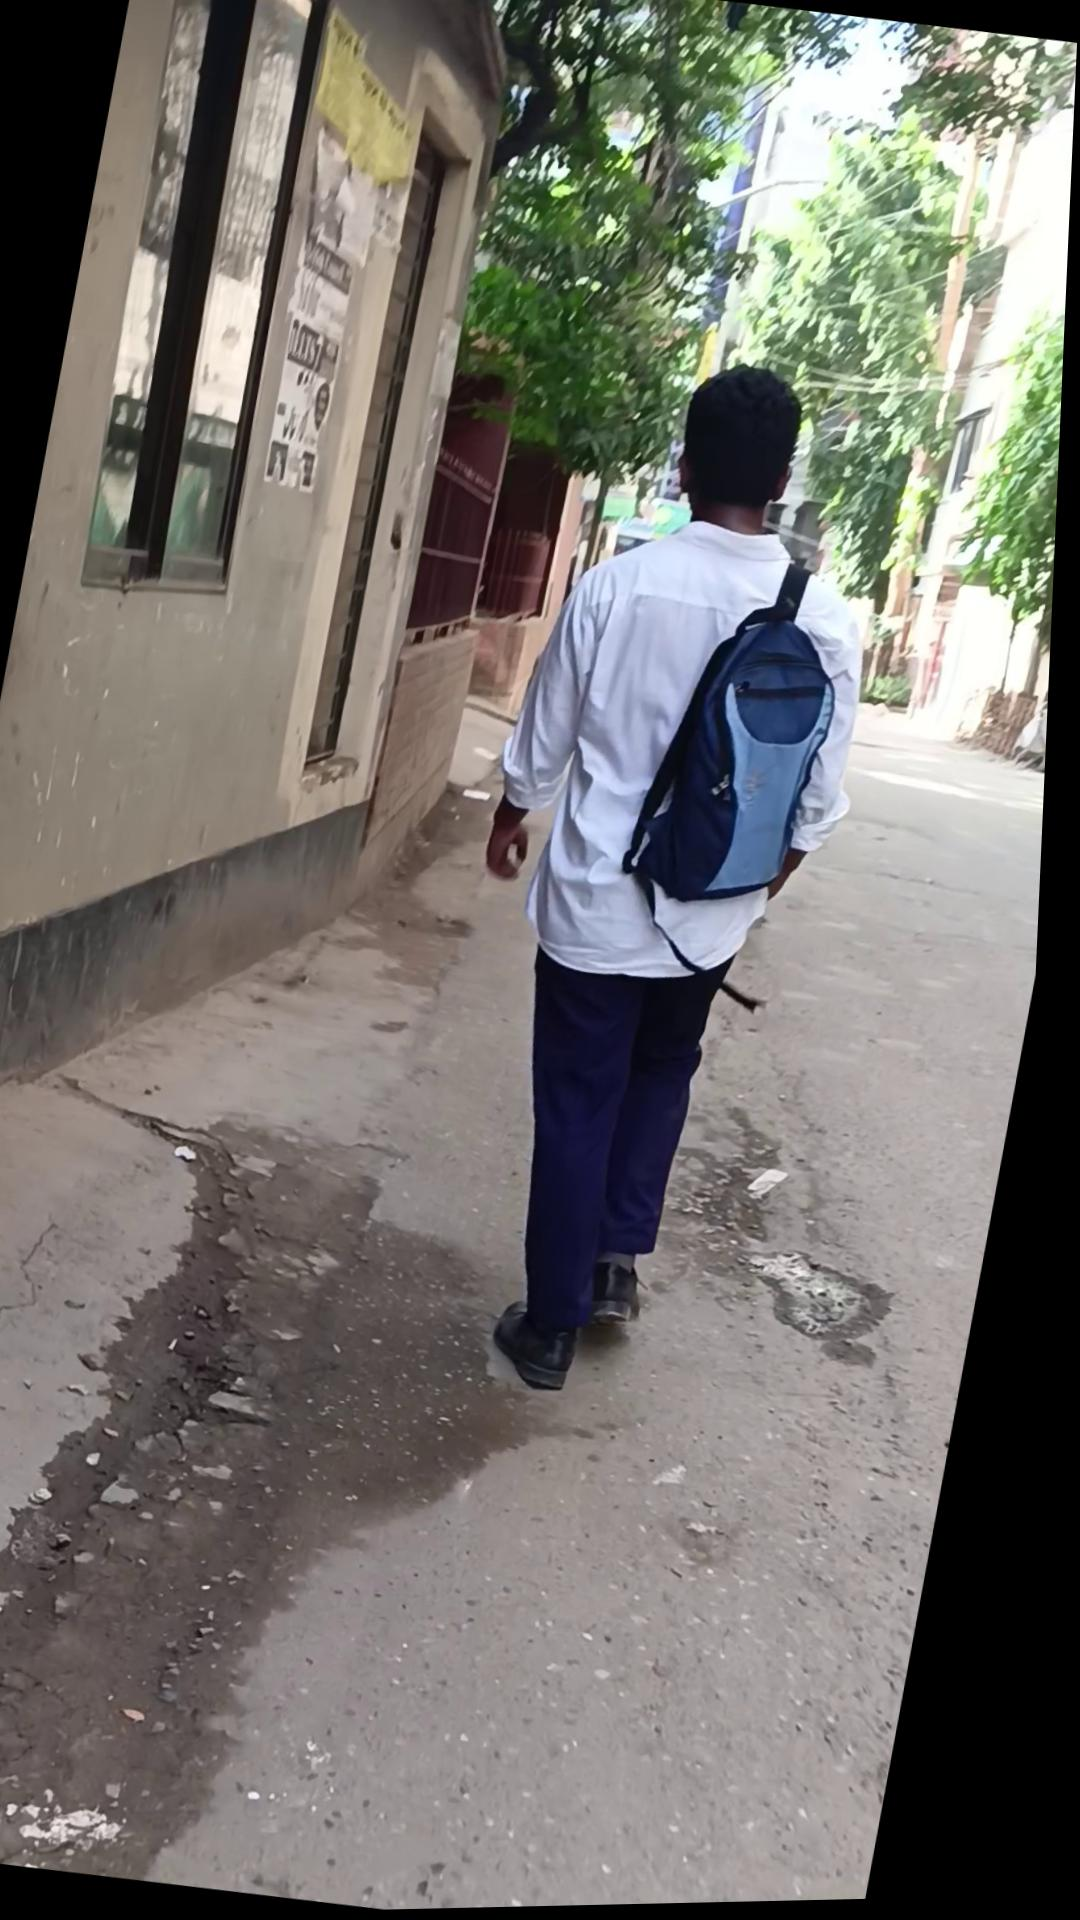Broken-road: (32, 1118, 563, 1898)
Crosswalk: (0, 578, 493, 1156)
Muddy road: (397, 338, 934, 1422)
Potted-plant: (0, 588, 1059, 1920)
